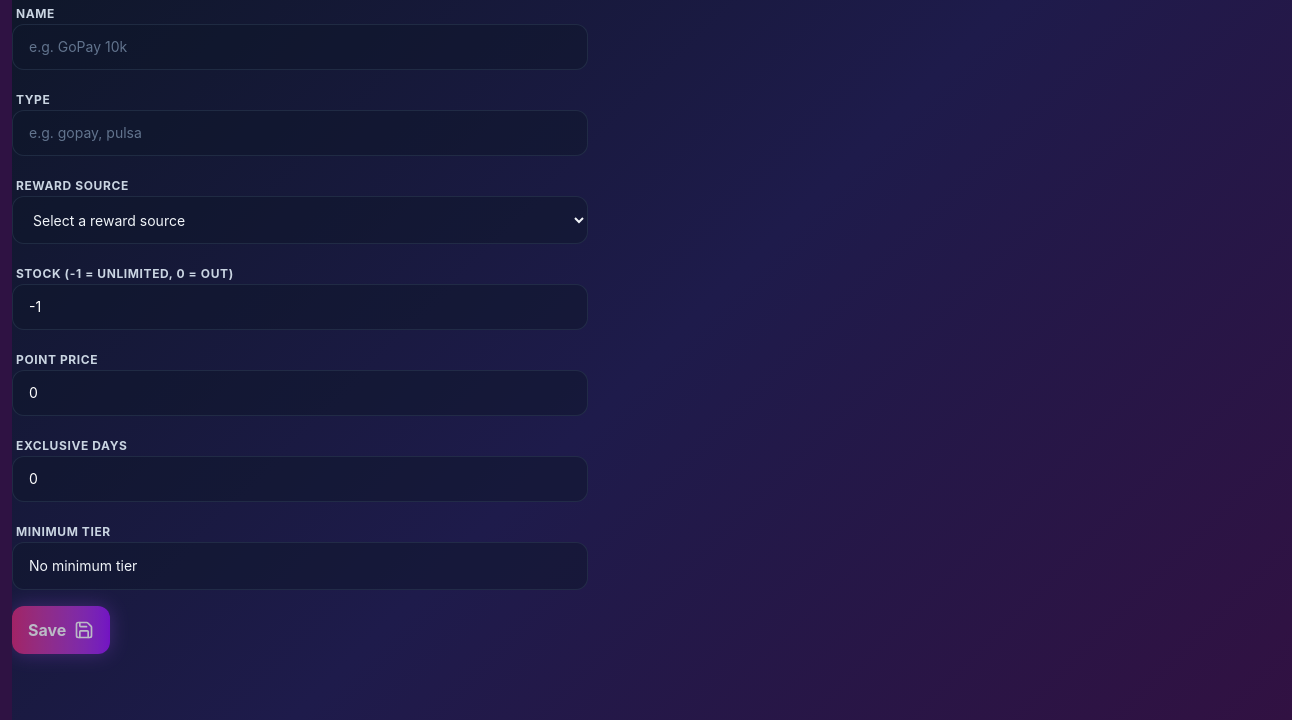
Scenario: RewardForm › disables Save until a reward source is selected
This screenshot has width=1292, height=720.
Expected: the button "Save" is disabled, top-left (12, 606), bottom-right (110, 654)
Select "Xendit (gopay)" in the dropdown labelled "Reward Source" at (300, 220), box top-left (12, 196), bottom-right (588, 244)
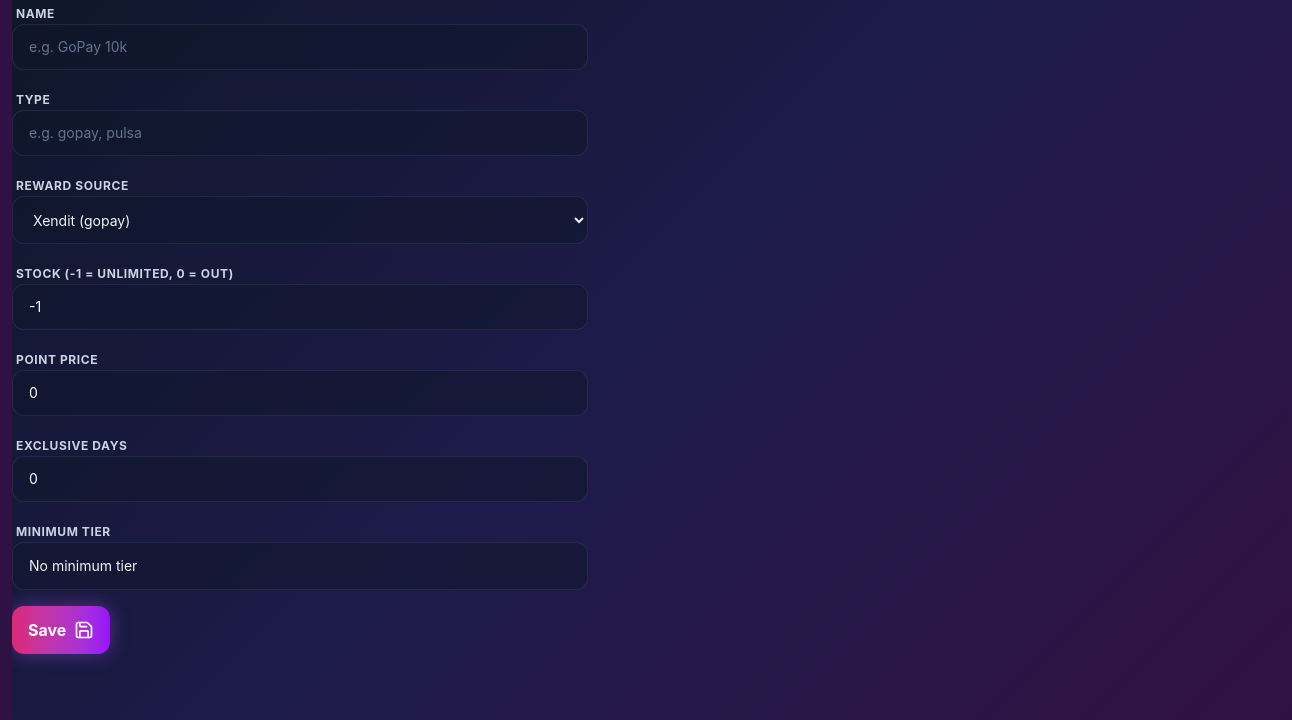
Now the button "Save" is enabled, box top-left (12, 606), bottom-right (110, 654)
